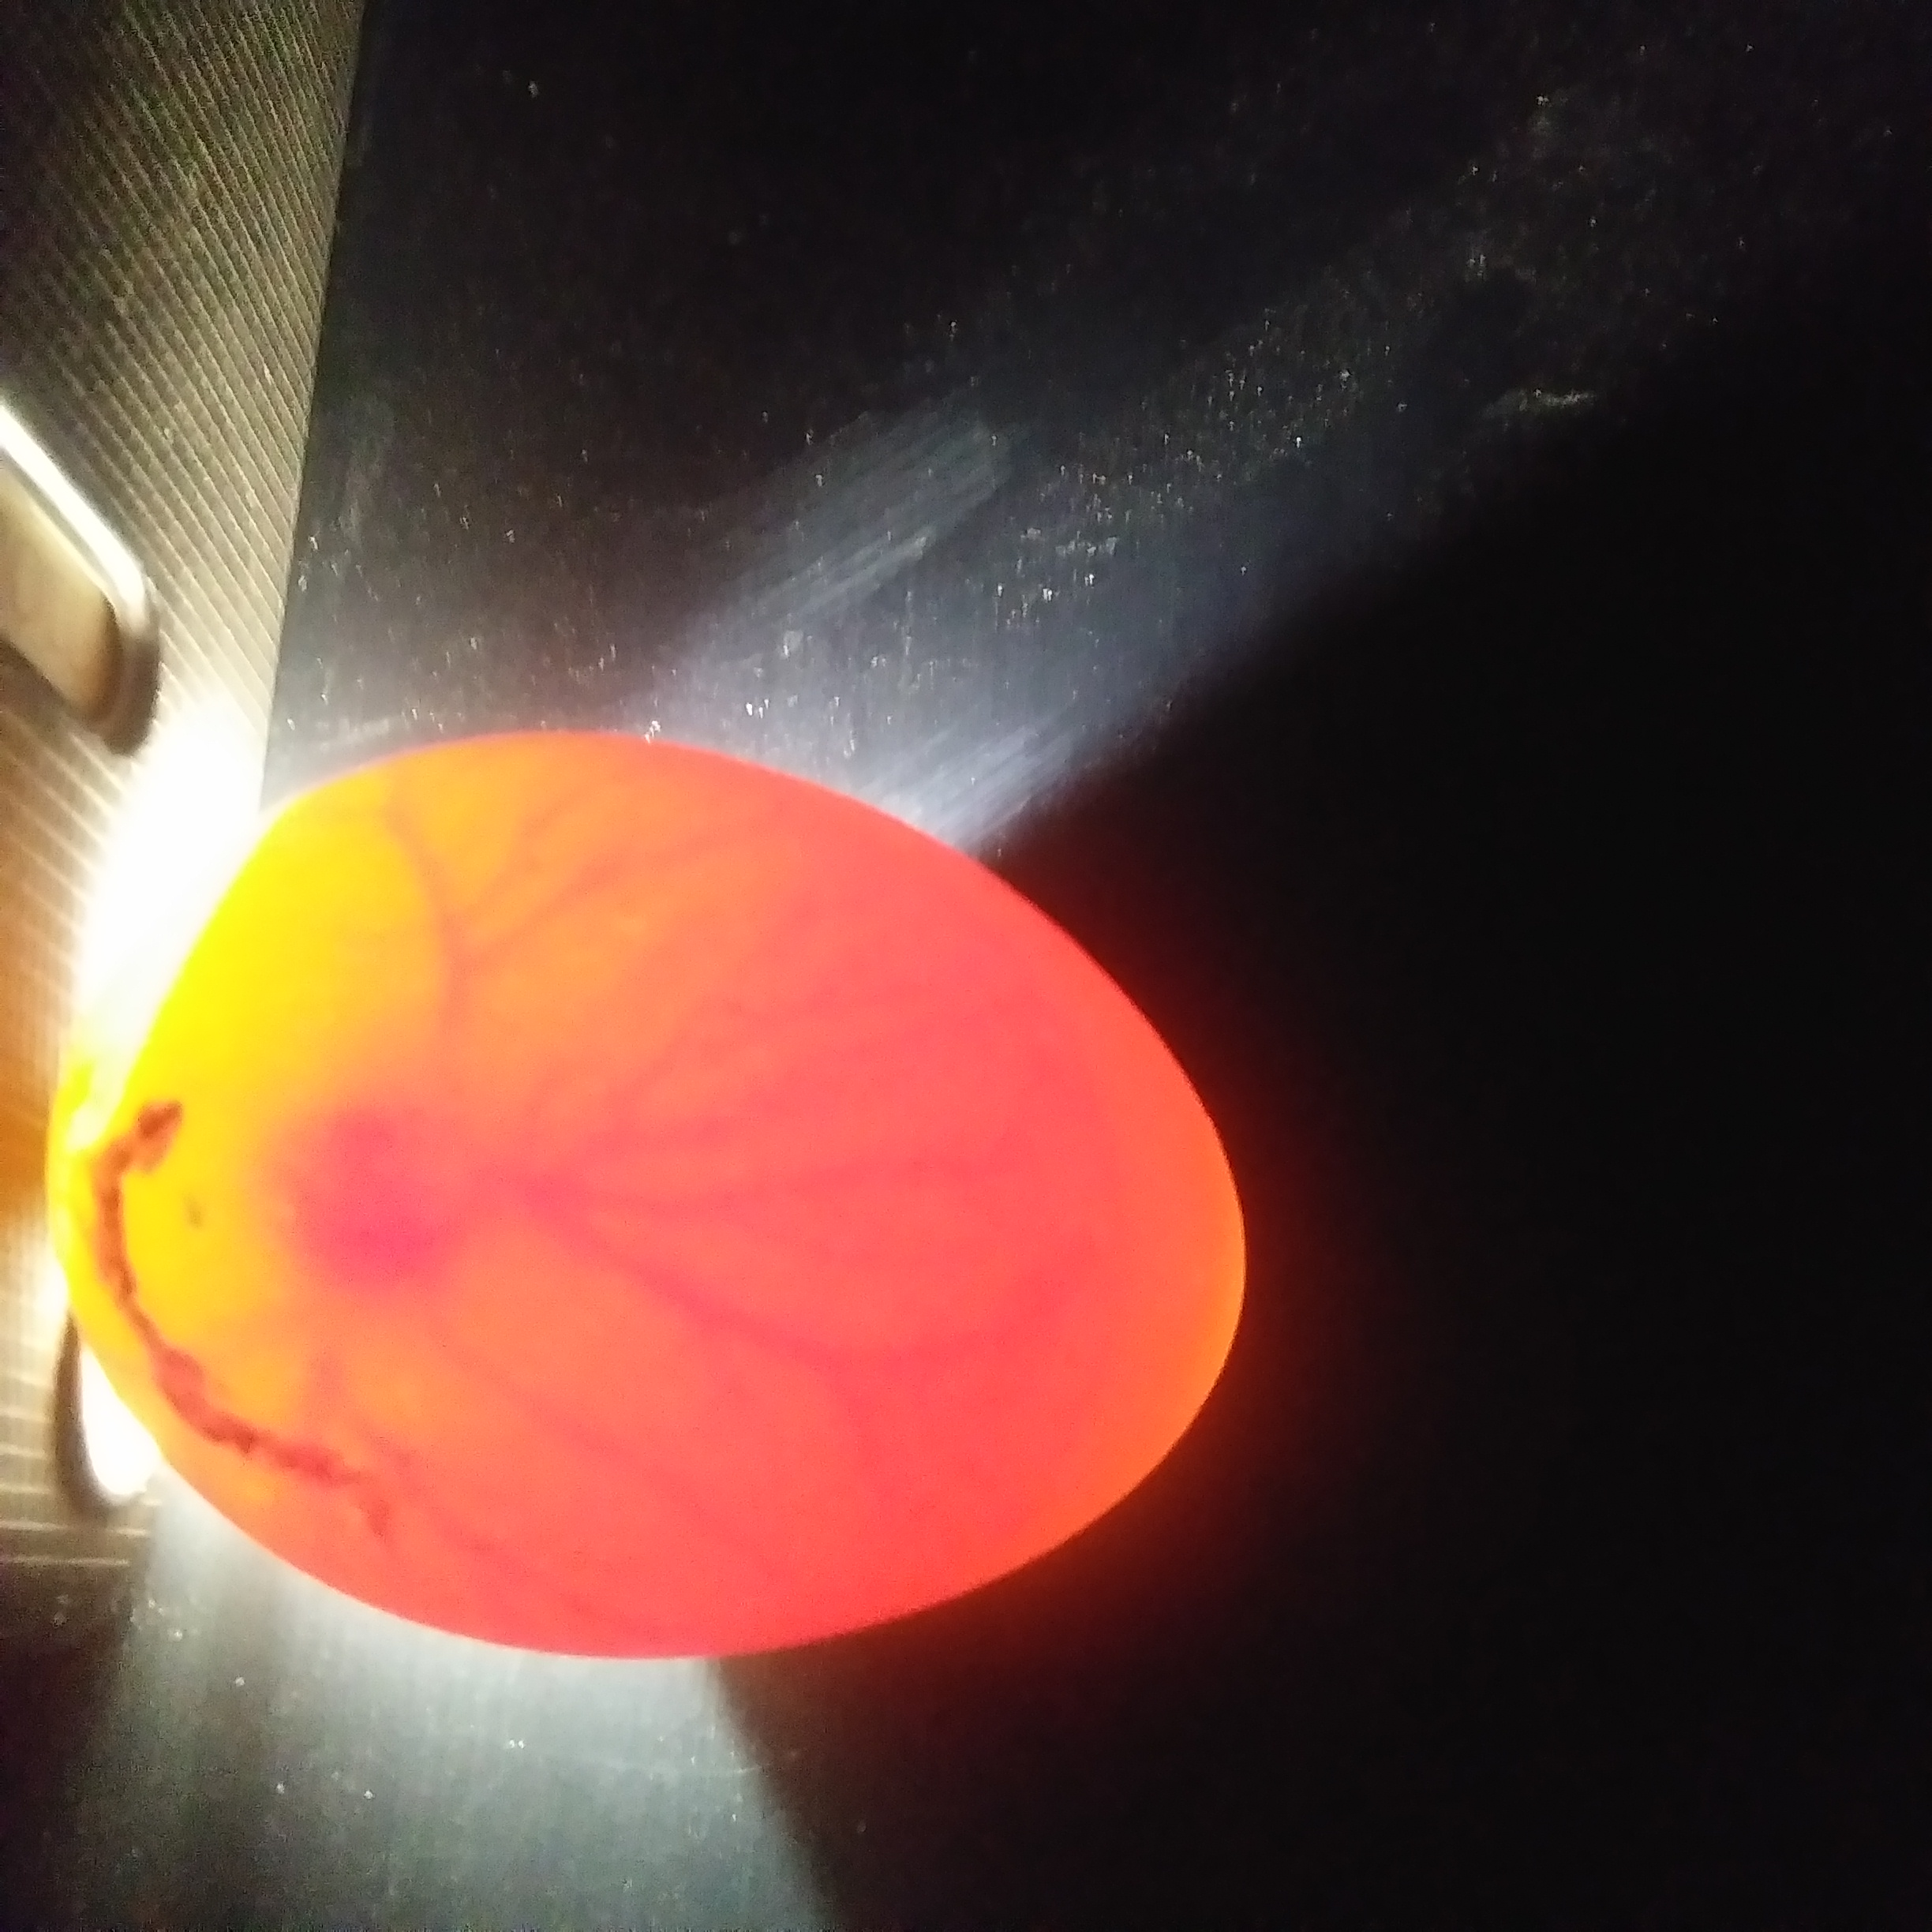bloodcell: (269, 1307, 1053, 1568), (356, 796, 893, 1069), (559, 1095, 1169, 1284)
embryo: (246, 1070, 522, 1290)
